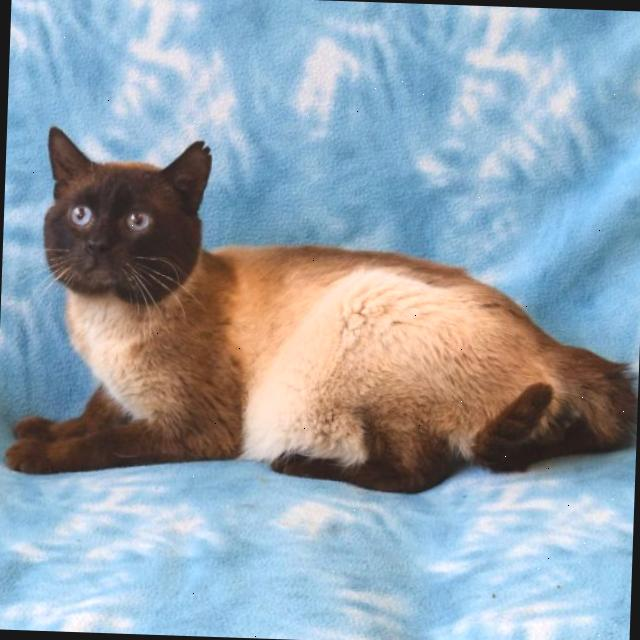siamese_cat: (22, 120, 222, 326)
